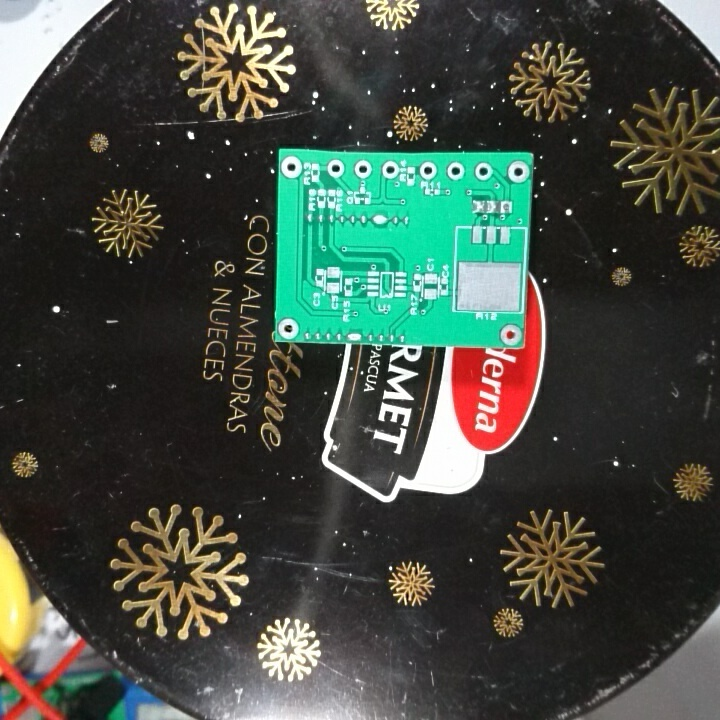F: (496, 322, 525, 346), (279, 154, 304, 180), (276, 315, 301, 341), (504, 158, 528, 185), (445, 159, 467, 183), (473, 159, 495, 181), (379, 157, 400, 180), (353, 158, 373, 182), (497, 196, 518, 218), (417, 160, 440, 180), (324, 158, 344, 180)
P: (370, 210, 390, 229), (345, 329, 364, 344)
